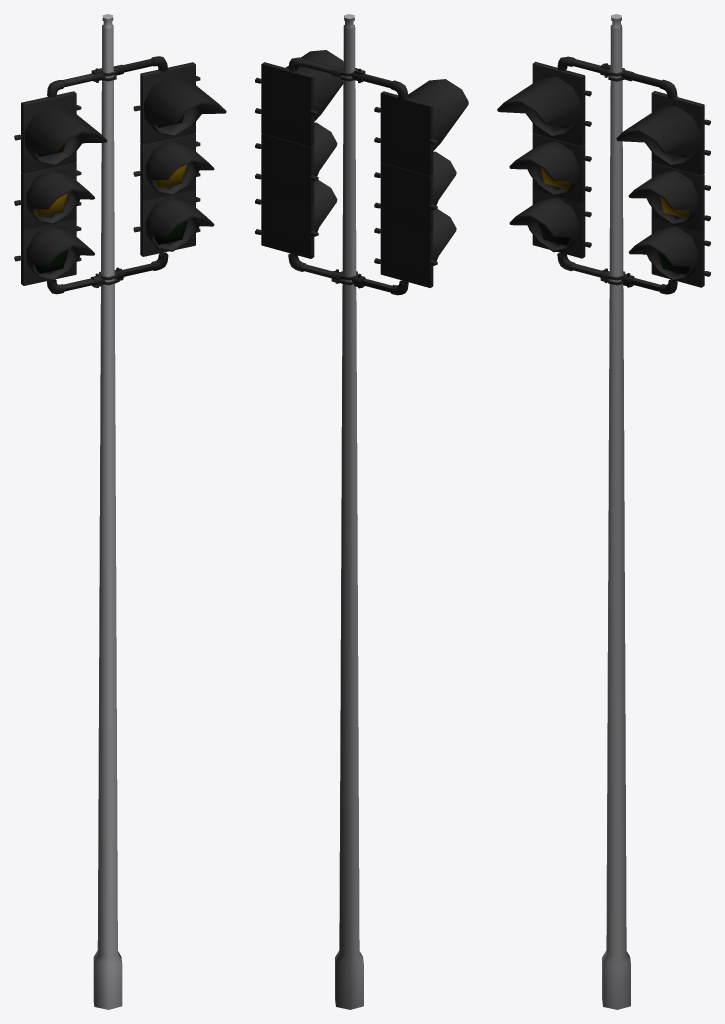
The model's file is TallTrafficLight_Double.fbx.
3 views of the same model, side by side, from view 1: azimuth 30°, elevation 25°; view 2: azimuth 150°, elevation 25°; view 3: azimuth 330°, elevation 25° (orthographic).
Visible parts, largest first — view 1: TallTrafficLight_Double; view 2: TallTrafficLight_Double; view 3: TallTrafficLight_Double.
Boxes of the visible parts, bbox=[...] form: TallTrafficLight_Double: bbox=[14, 14, 226, 1009]; TallTrafficLight_Double: bbox=[255, 14, 468, 1009]; TallTrafficLight_Double: bbox=[497, 14, 710, 1009].
Bounding box in the file's own units: 121 × 626 × 49.47.
